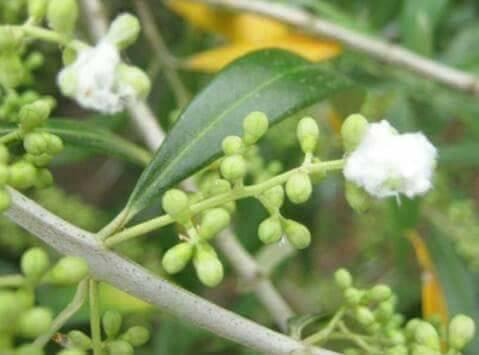Psyllid: (330, 116, 454, 204), (56, 42, 142, 114)
